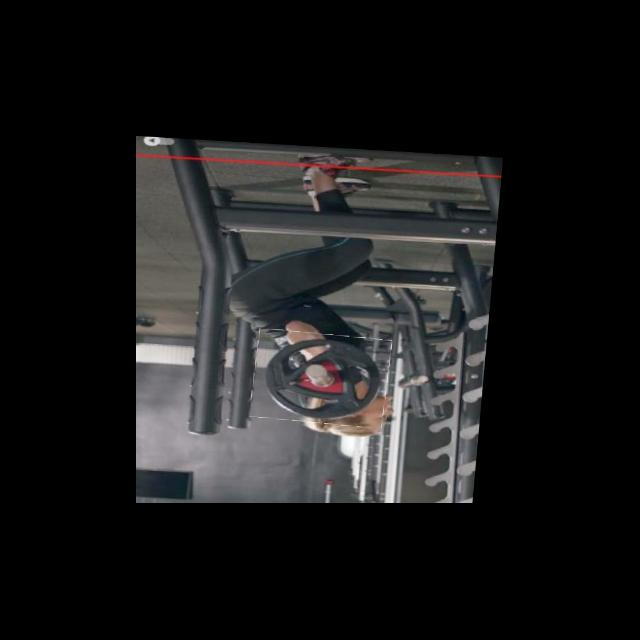barbell: (255, 328, 395, 424)
